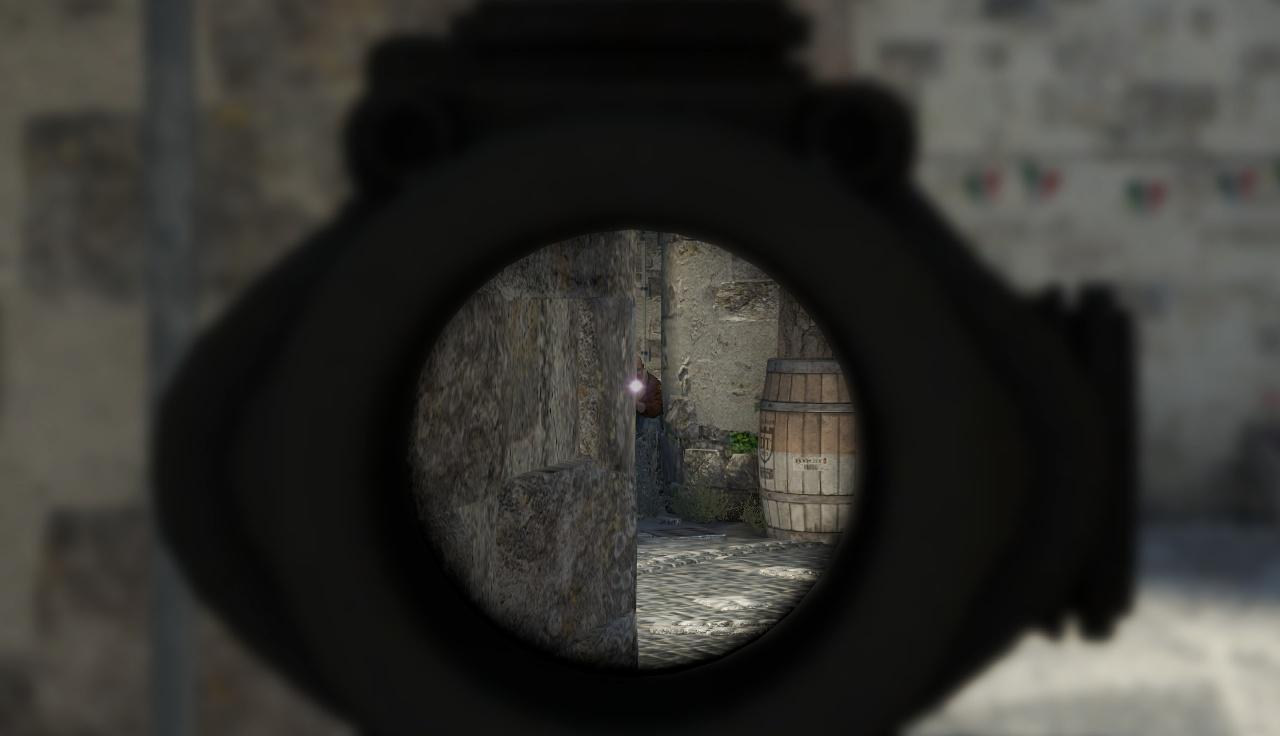tt: (637, 355, 662, 436)
